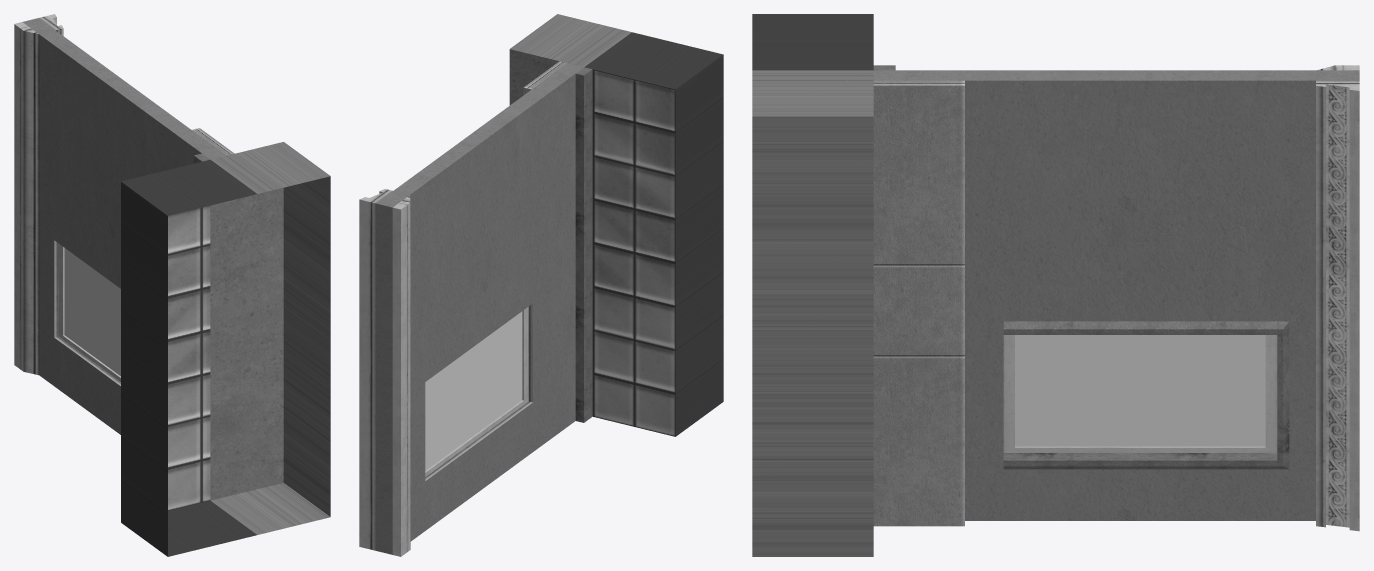
The model's file is A_ground_wall_ 4m_small_window.fbx.
3 renders of one model, left to right at view 1: azimuth 30°, elevation 25°; view 2: azimuth 150°, elevation 25°; view 3: azimuth 270°, elevation 25°, orthographic. The views are drawn at different scales.
Visible parts, largest first — view 1: A_ground_wall__4m_small_window, A_glass_016; view 2: A_ground_wall__4m_small_window, A_glass_016; view 3: A_ground_wall__4m_small_window, A_glass_016.
Part boxes in pixels (x1,y1,x2,y2): A_ground_wall__4m_small_window: (14,14,330,556); A_glass_016: (64,248,120,375); A_ground_wall__4m_small_window: (359,14,723,556); A_glass_016: (425,311,522,470); A_ground_wall__4m_small_window: (752,14,1359,556); A_glass_016: (1015,335,1265,446).
Size of the model in its own units: 2 by 4 by 5.
